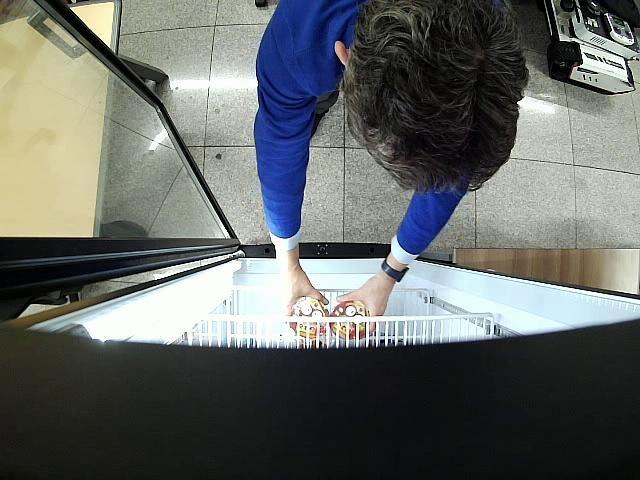06_nuguri_S: (290, 297, 328, 339), (330, 300, 370, 338)
